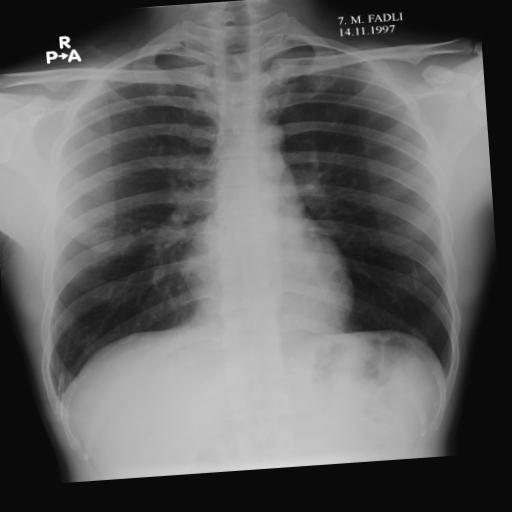normal: (10, 8, 470, 423)
